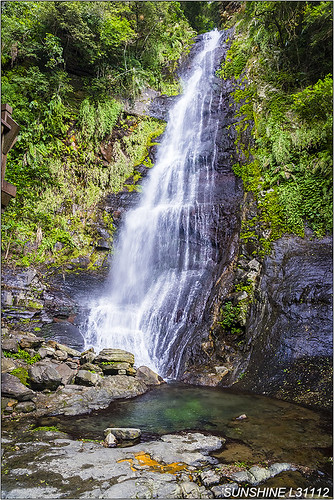wufengciWaterfall: (103, 31, 236, 375)
